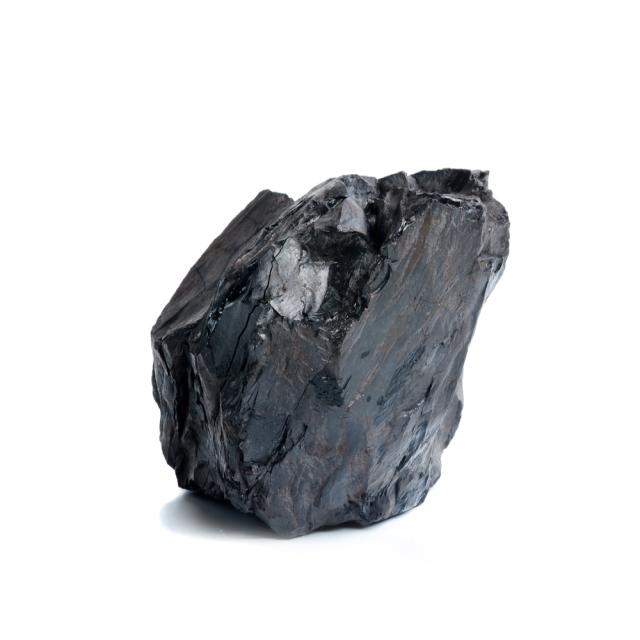Sedimentary: (142, 150, 521, 545)
